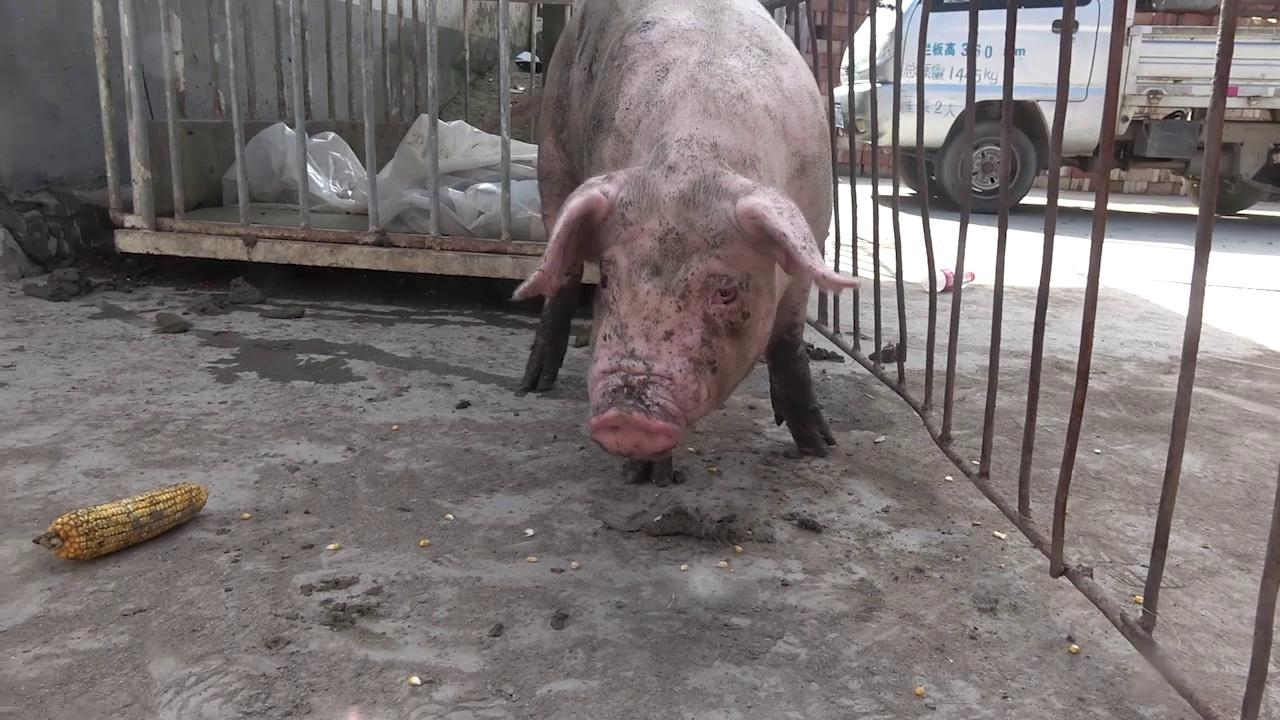Face: (500, 156, 867, 468)
